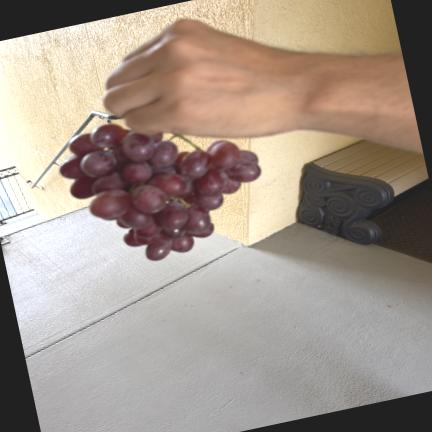grape_cluster: (61, 125, 261, 260)
